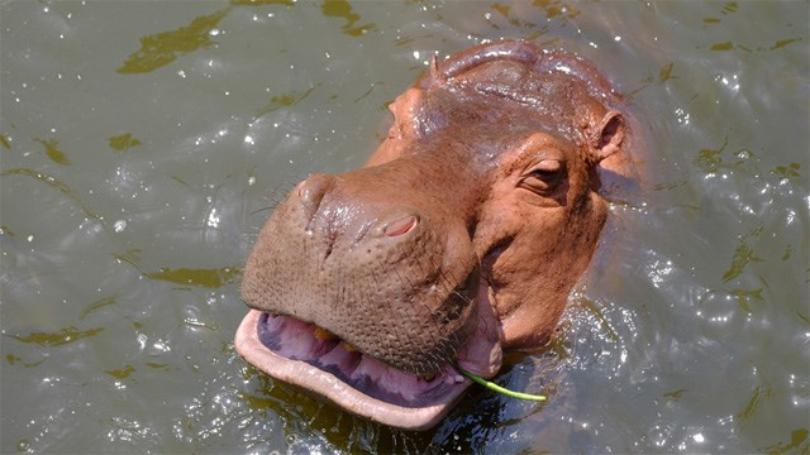Hippopotamus: (221, 36, 639, 432)
